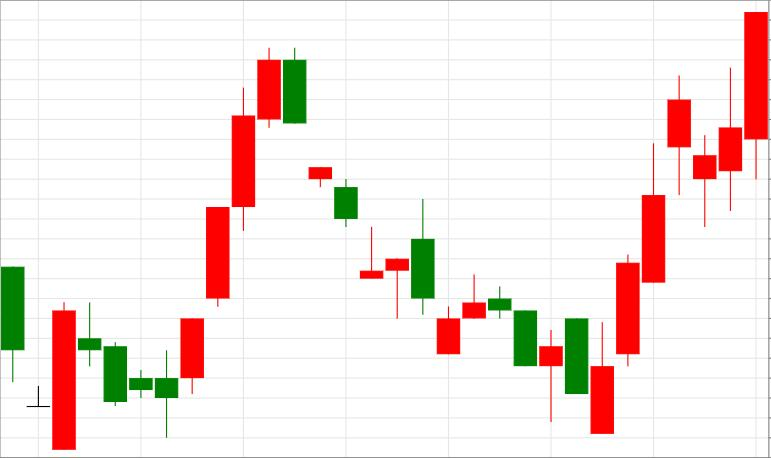three_white_soldiers_rise: (78, 85, 255, 437)
